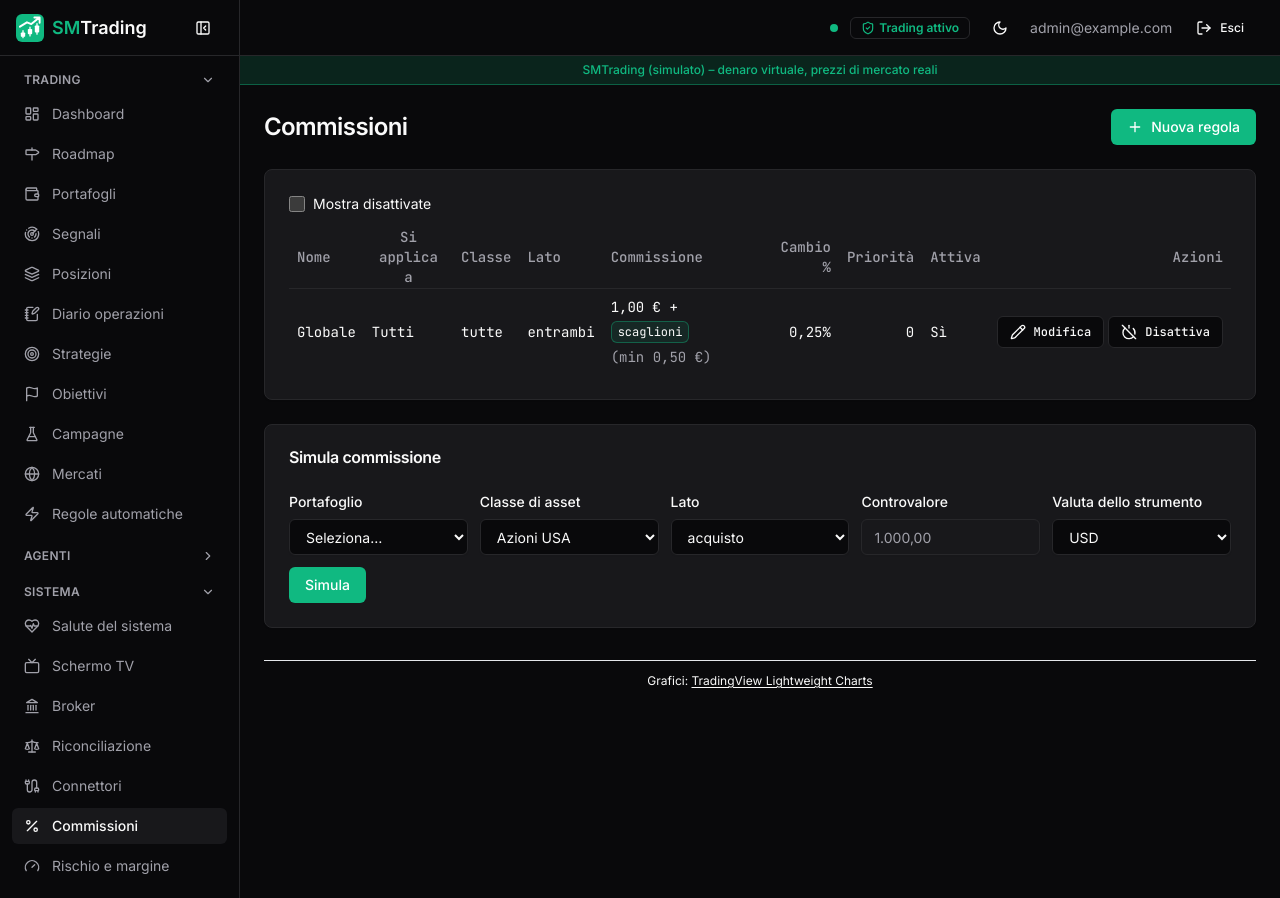
Test: Fees › lists rules with their values
The width and height of the screenshot is (1280, 898).
Expected: the text "Tutti" is shown, [364,288,453,375]
Expected: the text "(min 0,50 €)" is shown, [611,347,711,367]
Click the button "scaglioni".
click(650, 332)  # box [611,321,689,343]
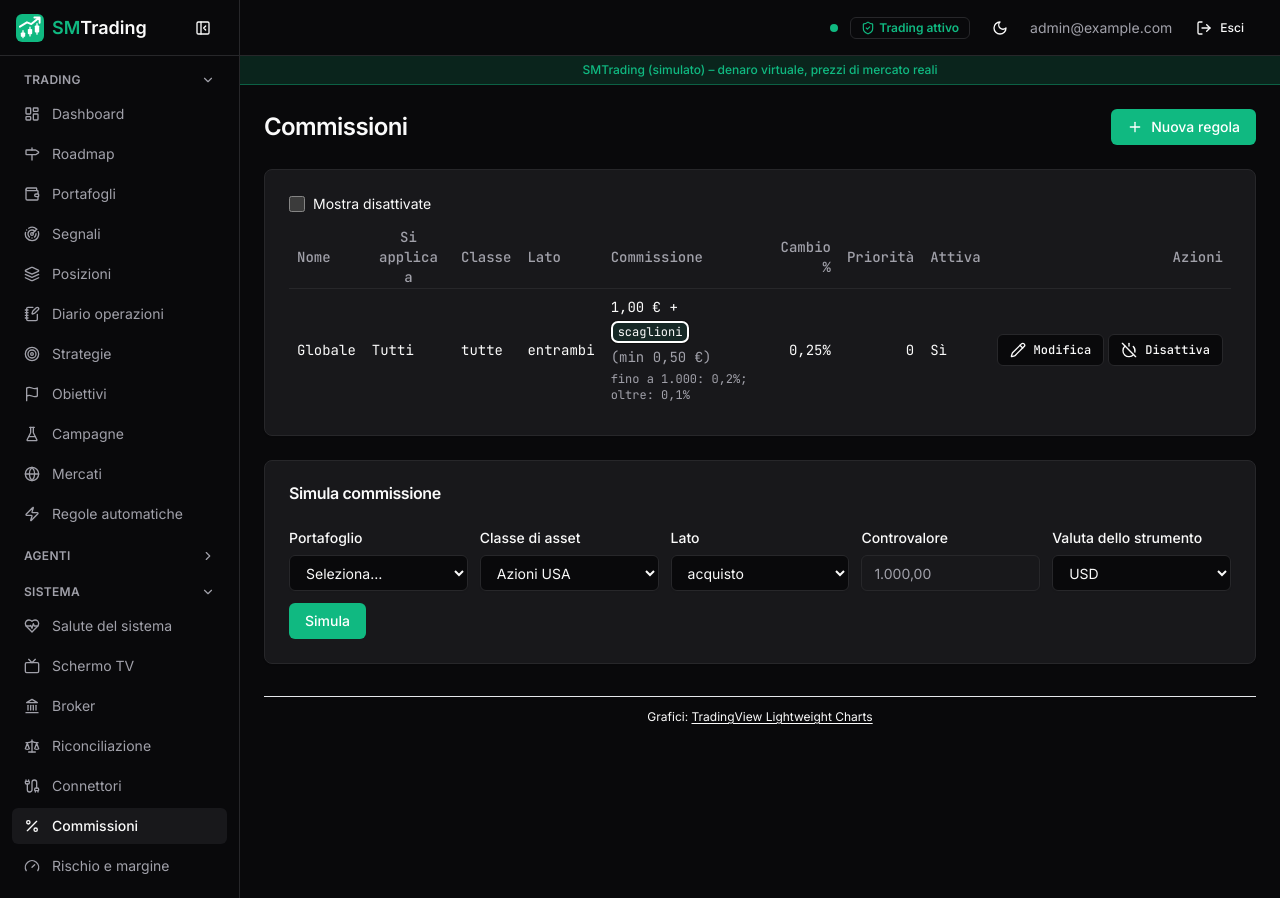
Result: the text "fino a 1.000: 0,2%; oltre: 0,1%" is shown at [611,371,759,403]
